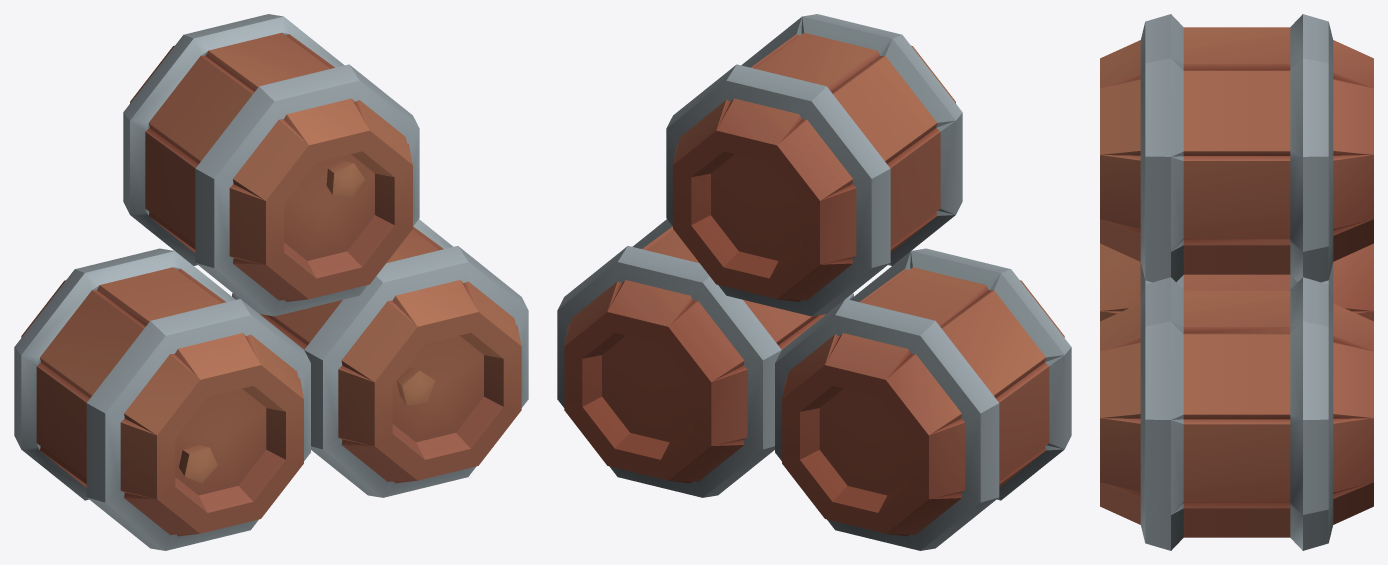
Rendered from barrel_small_stack.glb.
The picture shows the model from 3 angles, left to right: view 1: azimuth 30°, elevation 25°; view 2: azimuth 150°, elevation 25°; view 3: azimuth 270°, elevation 25°; orthographic projection.
Parts seen in each view (by area): view 1: barrel_small_stack; view 2: barrel_small_stack; view 3: barrel_small_stack.
Part boxes in pixels (box(x1,y1,x2,y2)): barrel_small_stack: box(14, 14, 528, 550); barrel_small_stack: box(557, 14, 1071, 550); barrel_small_stack: box(1100, 14, 1373, 550).
Size of the model in its own units: 1.85 by 1.77 by 1.
1 material, 1 textured.
